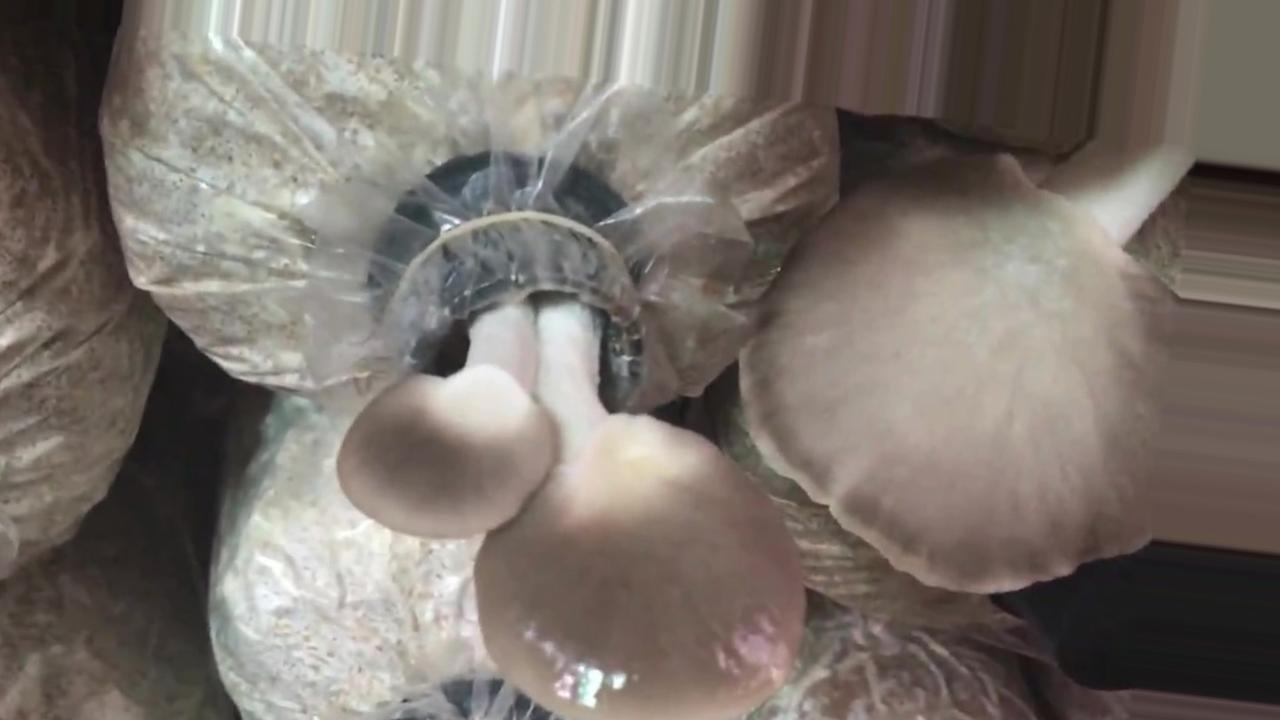nam: (734, 137, 1280, 603), (332, 216, 806, 720)
